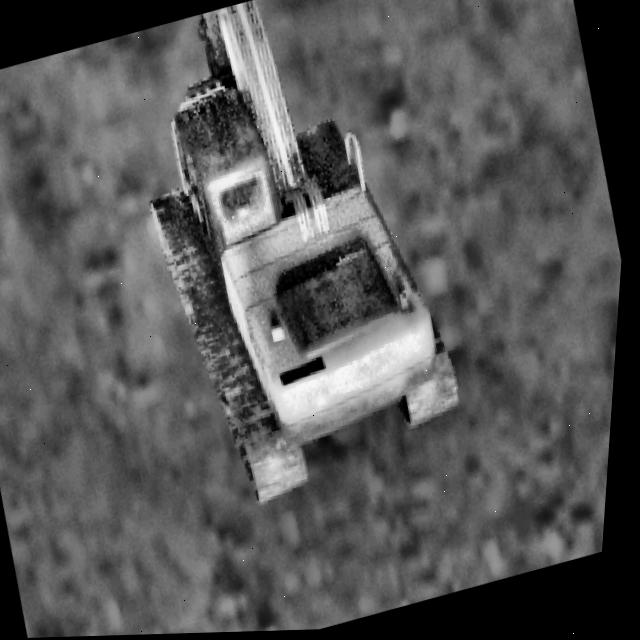excavator: (93, 0, 494, 518)
